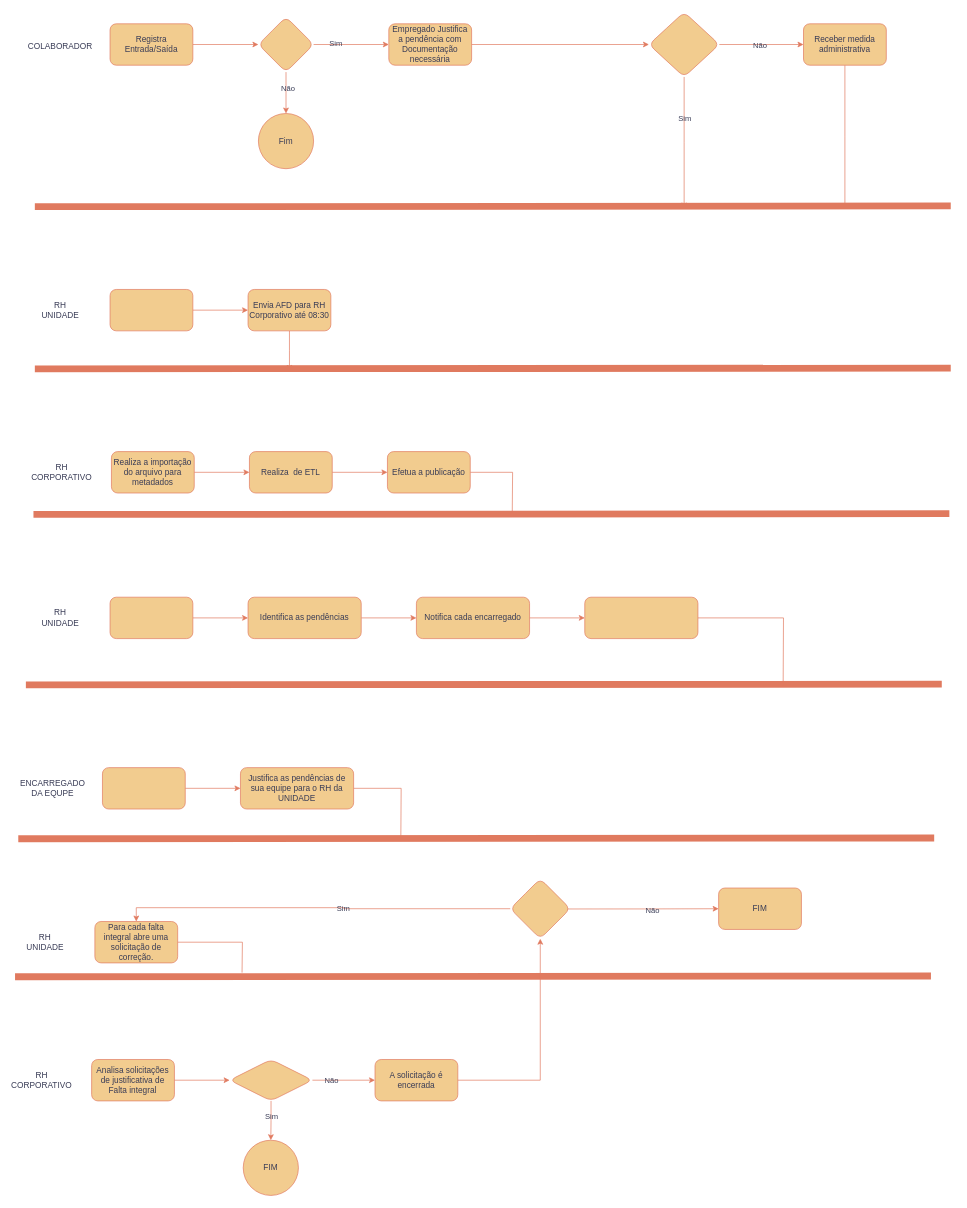
The diagram is 967 pixels wide and 1208 high, and some of its shapes have lost their labels. The centre of each missing label's shape, as x and y in pixels:
A falta é justificável?: (540,908)
Analisa o Relatório: (151,618)
Coleta Arquivo Fonte De Dados (AFD): (151,310)
Coleta evidências de justificativa para cada pendência: (143,788)
Foi Aprovado?: (270,1080)
Gerou Pendência: (286,44)
Justificou a pendência?: (683,44)
Trata Atrasos de rota e Faltas Parciais: (641,618)
